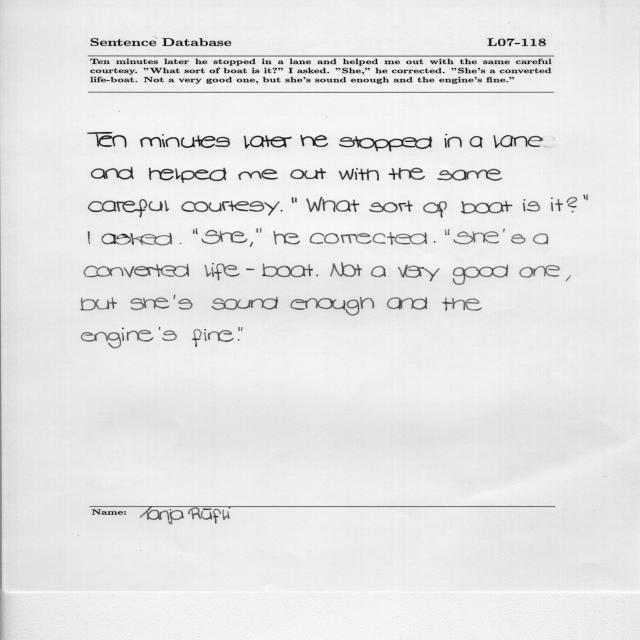word: (204, 263, 313, 280), (290, 297, 374, 316), (310, 232, 427, 245), (182, 201, 283, 216), (82, 328, 154, 349), (88, 199, 169, 217), (339, 136, 432, 151), (84, 264, 189, 277), (140, 134, 230, 148), (149, 168, 226, 183), (453, 265, 508, 285), (211, 297, 278, 310), (101, 233, 172, 245), (307, 197, 360, 212), (437, 169, 502, 181), (192, 329, 234, 347), (398, 265, 440, 281), (461, 201, 512, 214), (493, 135, 543, 148), (202, 230, 248, 244), (88, 132, 127, 148), (244, 136, 292, 149), (454, 232, 499, 245), (369, 200, 413, 213), (442, 297, 482, 311), (92, 167, 134, 180), (519, 265, 560, 278), (339, 168, 379, 181), (387, 297, 427, 310), (131, 298, 170, 311), (81, 297, 117, 310), (330, 263, 362, 277), (388, 168, 425, 180), (238, 169, 278, 180), (423, 201, 447, 218), (291, 168, 326, 179), (273, 231, 300, 245), (503, 229, 526, 244), (300, 135, 328, 147), (173, 295, 193, 310), (444, 134, 462, 148), (159, 327, 177, 341), (523, 199, 540, 212), (551, 198, 563, 212), (533, 234, 548, 245), (371, 266, 386, 277), (470, 136, 483, 148), (567, 197, 577, 212), (565, 275, 571, 282), (193, 229, 198, 235), (88, 232, 90, 245), (583, 195, 588, 200), (257, 228, 262, 233), (445, 229, 449, 235), (238, 327, 243, 331), (250, 242, 253, 247), (292, 197, 294, 203), (295, 198, 297, 203), (434, 241, 436, 243), (238, 339, 240, 341), (316, 275, 318, 276), (180, 243, 181, 244)
